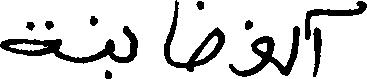X: (317, 0, 366, 76), (231, 15, 272, 78), (0, 16, 56, 61), (189, 0, 222, 76), (165, 0, 176, 72), (287, 21, 298, 78), (125, 21, 137, 67), (106, 34, 112, 78)
